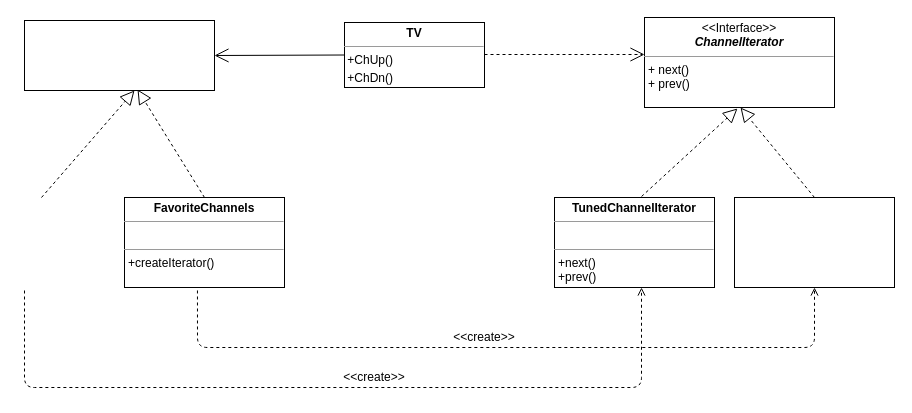
Some shapes in this 912 by 413 pixel diagram are drawn without their labels. Each missing label, with the centre of its shape:
"<<abstract>> ChannelFrequencies + createIterator()" belongs at point (119, 55).
"FavoriteChannelIterator +next() +prev()" belongs at point (814, 242).
